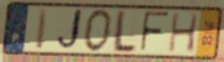F: (139, 10, 171, 55)
H: (167, 12, 200, 54)
I: (34, 7, 50, 51)
J: (55, 7, 84, 53)
L: (110, 9, 139, 55)
O: (83, 8, 114, 54)
